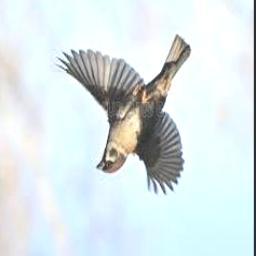Sparrow: (55, 34, 190, 197)
